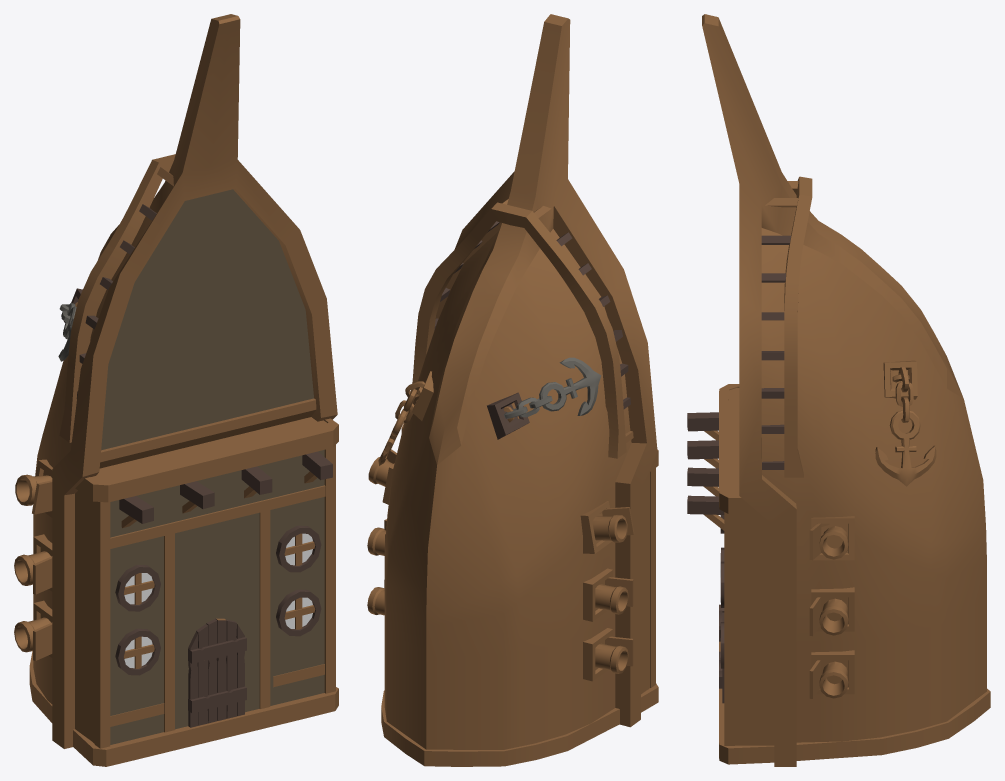
File: Boat House.fbx
3 renders of one model, left to right at view 1: azimuth 30°, elevation 25°; view 2: azimuth 150°, elevation 25°; view 3: azimuth 270°, elevation 25°, orthographic. The views are drawn at different scales.
Visible parts, largest first — view 1: Environment_House2; view 2: Environment_House2; view 3: Environment_House2.
Part boxes in pixels (bbox=[...]): Environment_House2: bbox=[14, 14, 338, 766]; Environment_House2: bbox=[367, 14, 658, 766]; Environment_House2: bbox=[687, 14, 990, 766].
Size of the model in its own units: 53 by 132 by 52.57.
